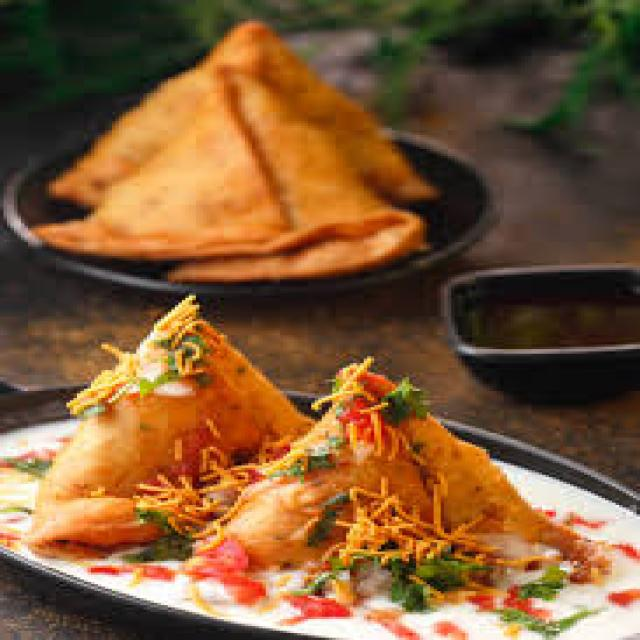SAMOSA: (35, 21, 434, 279), (35, 23, 430, 279), (227, 358, 581, 568), (21, 296, 311, 549)
